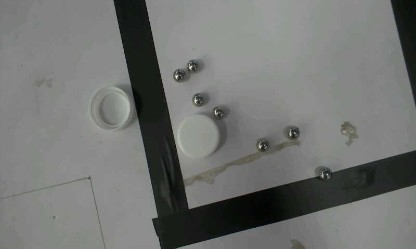ironball: (315, 166, 332, 181), (284, 125, 300, 139), (255, 137, 269, 152), (172, 68, 186, 82), (186, 59, 199, 72), (191, 93, 204, 106), (212, 106, 225, 119)
